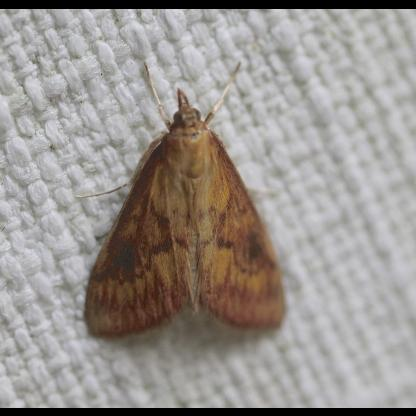Asian Corn Borer Moth: (72, 57, 288, 346)
